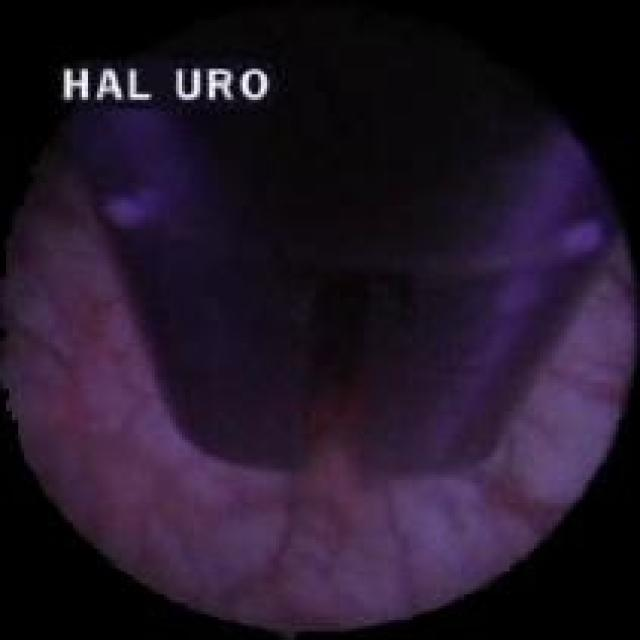color misalignment: (56, 55, 272, 113)
instrument: (61, 22, 607, 480)
